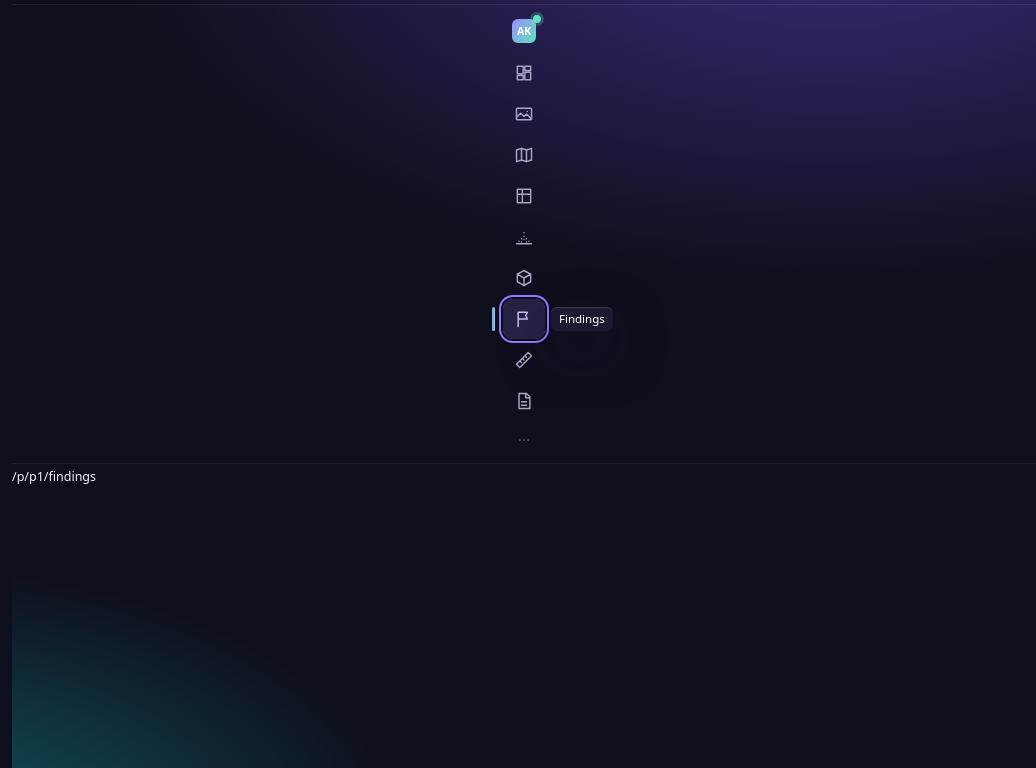
SidebarProjectTree › collapsed: keeps link names, shows a tooltip, and turns More into a menu
This screenshot has width=1036, height=768.
Check: the tooltip reads "Findings", box [559,311,605,326]
Click the button named "More pages".
click(524, 440)  # box [503,423,545,457]
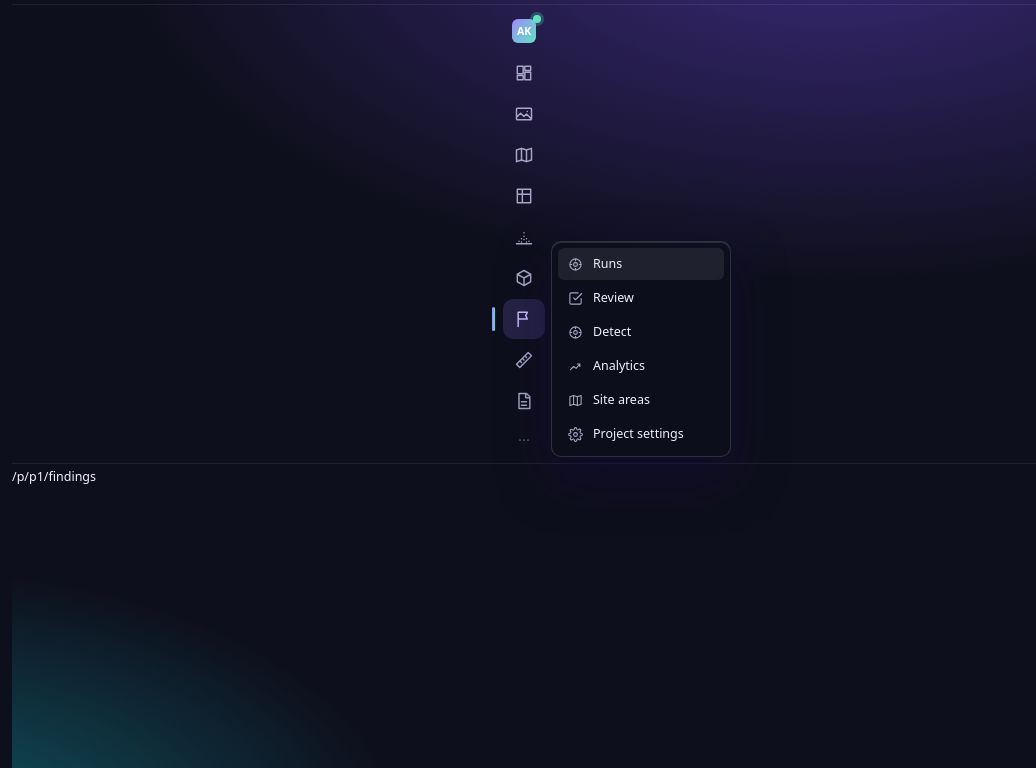
Click the menu item "Analytics".
click(641, 366)  # box [558,350,724,382]
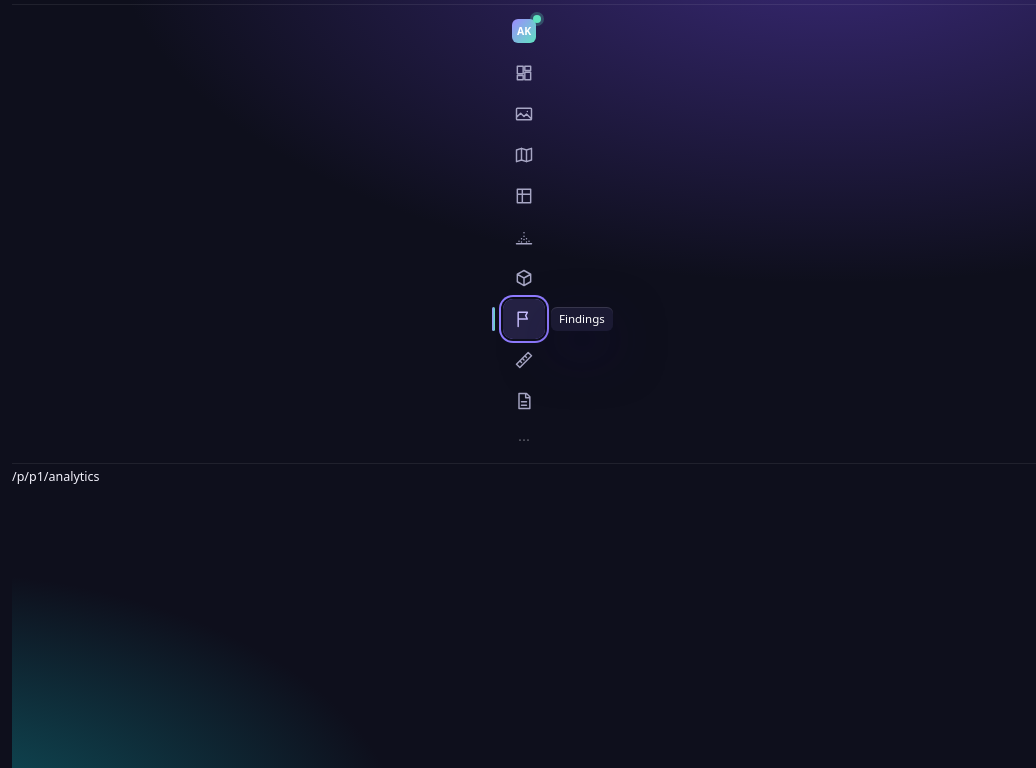
Check: the text with test id "where" reads "/p/p1/analytics", box [12,468,100,485]
